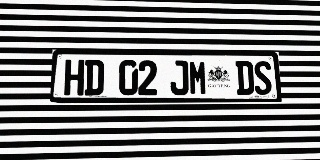0: (119, 60, 138, 95)
2: (138, 60, 157, 95)
D: (84, 60, 104, 95), (235, 61, 254, 95)
H: (64, 60, 84, 95)
J: (170, 60, 189, 95)
M: (189, 60, 207, 95)
S: (253, 61, 272, 95)
